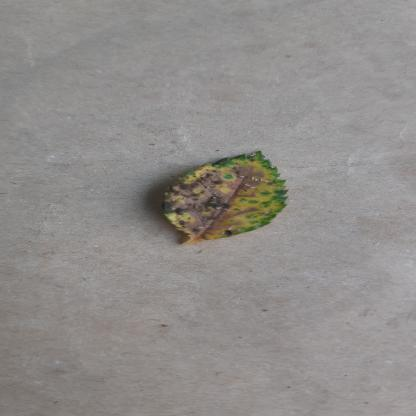black-spot: (149, 146, 301, 252)
